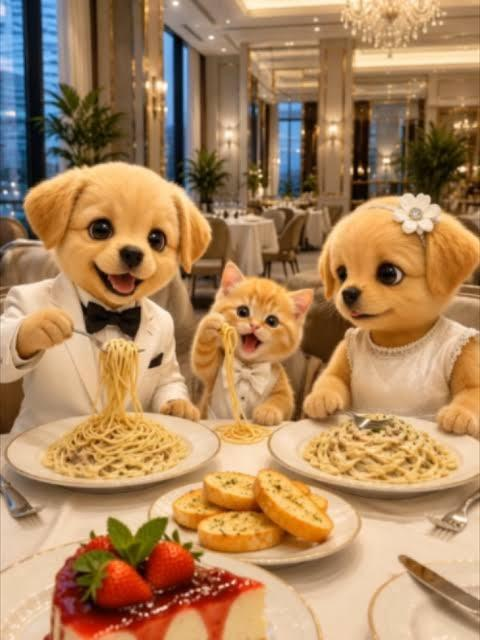non-dog: (191, 260, 314, 428)
puppy-dog: (1, 159, 213, 434), (302, 192, 480, 438)
